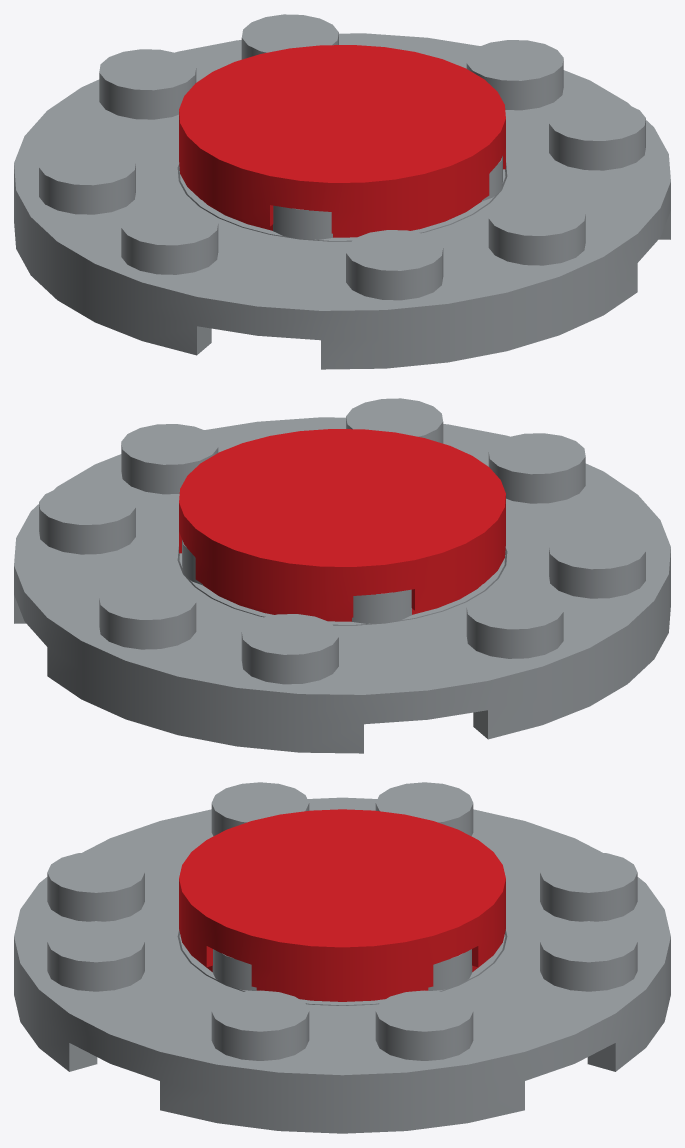
File: LEGO Button.fbx
3 views of the same model, one above another, from view 1: azimuth 30°, elevation 25°; view 2: azimuth 150°, elevation 25°; view 3: azimuth 270°, elevation 25° (orthographic).
Parts seen in each view (by area): view 1: Circle.003, Circle.004, Circle.005; view 2: Circle.003, Circle.004, Circle.005; view 3: Circle.003, Circle.004, Circle.005.
Boxes of the visible parts, x1,y1,x2,y2 form: Circle.003: (14,14,670,369); Circle.004: (179,45,505,237); Circle.005: (179,156,505,241); Circle.003: (14,398,670,753); Circle.004: (179,429,505,621); Circle.005: (179,540,505,625); Circle.003: (14,782,670,1133); Circle.004: (179,809,505,1001); Circle.005: (179,934,505,1005).
Bounding box in the file's own units: 98.22 × 98.22 × 19.22.
